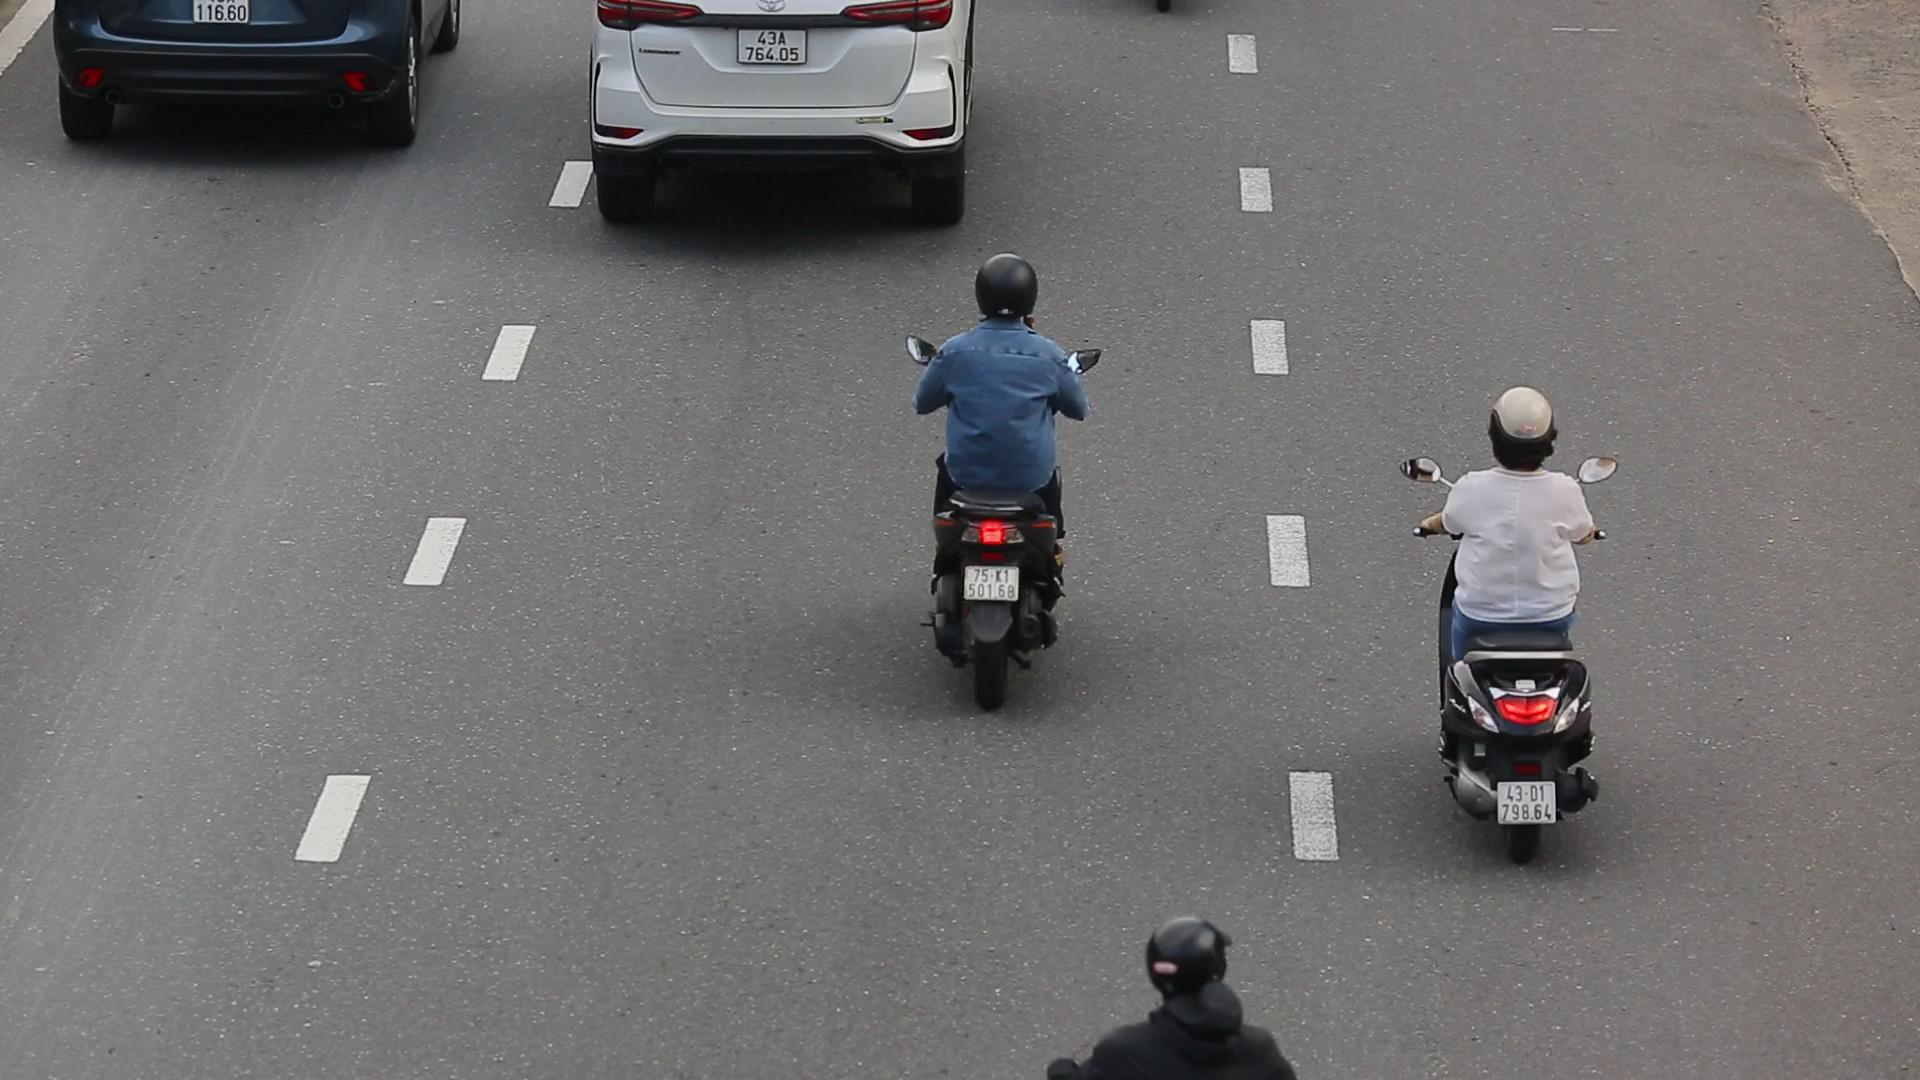motobike: (1383, 372, 1634, 872), (876, 237, 1108, 723)
